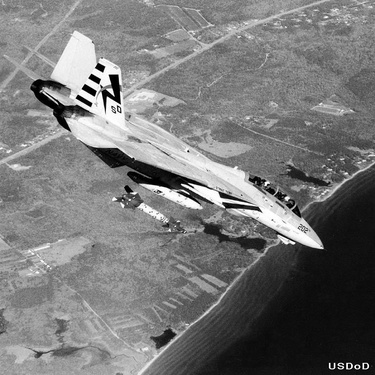airplane: (23, 21, 336, 286)
